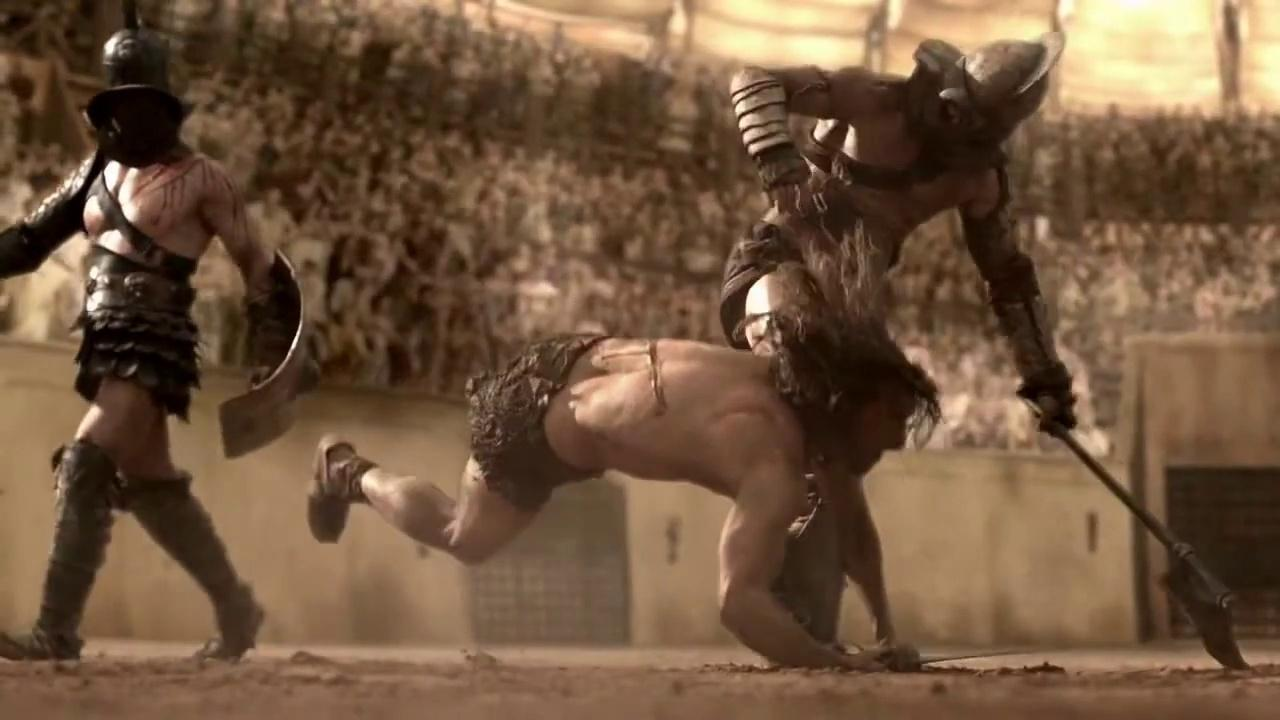Fire: (136, 152, 257, 248), (592, 339, 668, 415)
